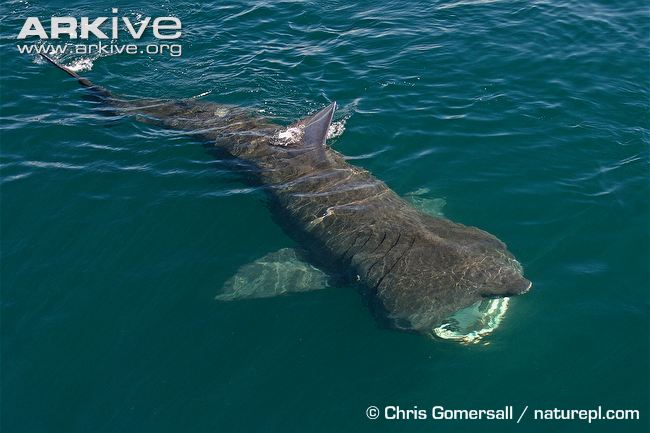shark: (33, 53, 577, 377)
